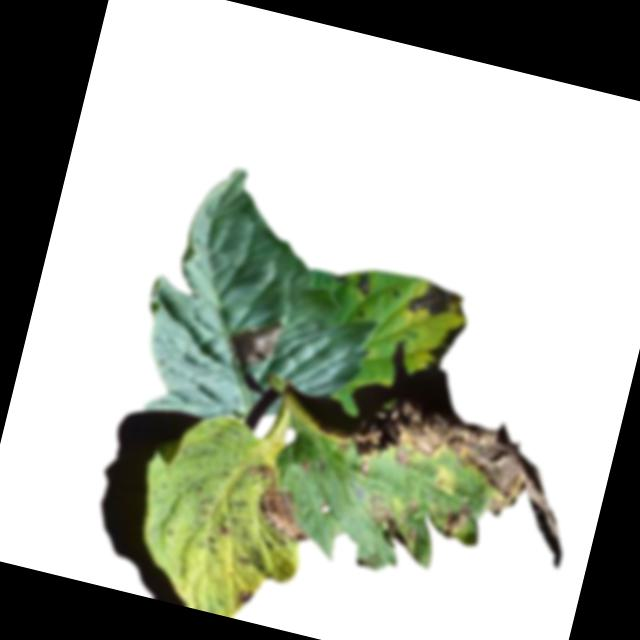Early_blight: (306, 382, 591, 569), (243, 461, 319, 544), (227, 314, 281, 372), (406, 277, 468, 325), (426, 313, 467, 368), (354, 269, 374, 296), (234, 586, 258, 608)
